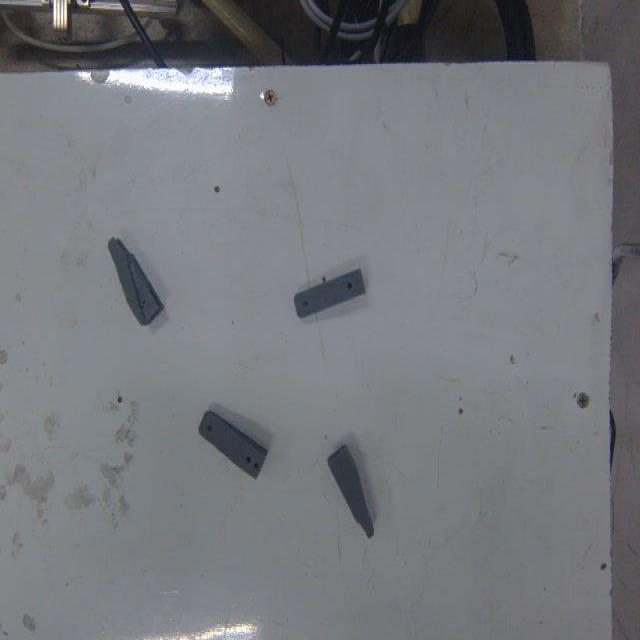grey: (198, 408, 270, 486), (292, 268, 368, 320)
head: (204, 422, 217, 437), (298, 299, 312, 311)
